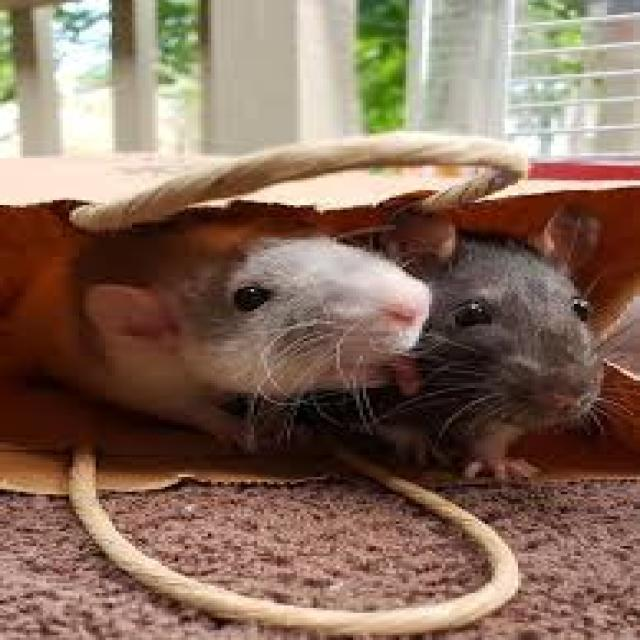Rat: (81, 206, 637, 464)
